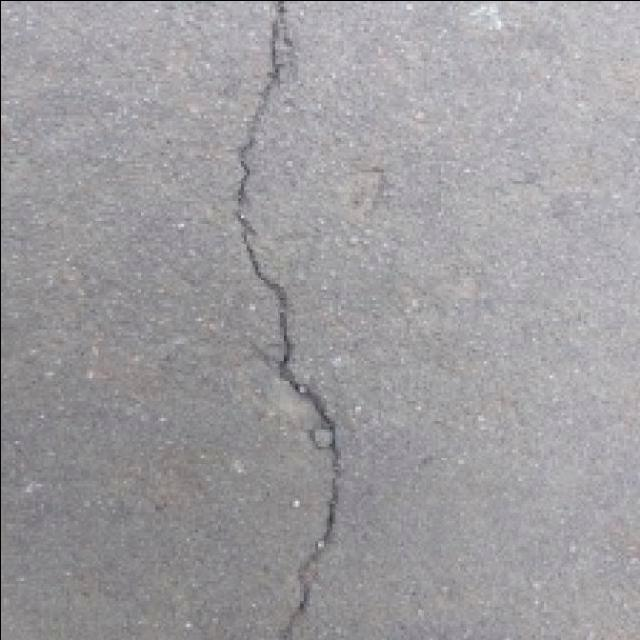SurfaceCrack: (210, 0, 360, 640)
